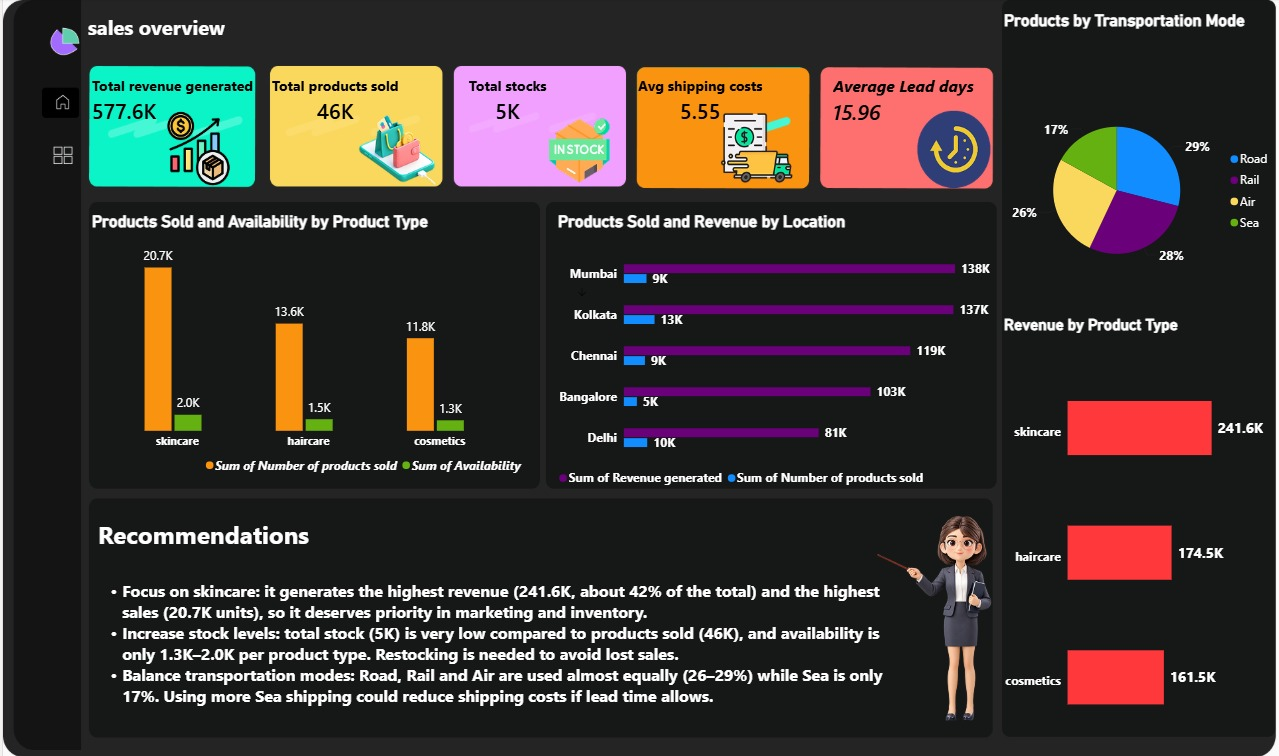

This screenshot's page, from the dashboard's own definition file:
{"tool":"powerbi","page":{"name":"sales overview","canvas":[1920,1080],"ordinal":0},"visuals":[{"type":"cardVisual","fields":{"Data":["Avg(supply_chain_data.Lead times)"]},"box":[1082.4,30.4,226.3,205.1],"z":0},{"type":"cardVisual","fields":{"Data":["Sum(supply_chain_data.Stock levels)"]},"box":[570.3,42.3,195.8,182.6],"z":1000},{"type":"cardVisual","fields":{"Data":["Avg(supply_chain_data.Shipping costs)"]},"box":[792.6,42.3,260.7,182.6],"z":2000},{"type":"cardVisual","fields":{"Data":["Sum(supply_chain_data.Revenue generated)"]},"box":[101.9,56.9,296.4,152.2],"z":3000},{"type":"cardVisual","fields":{"Data":["Sum(supply_chain_data.Number of products sold)"]},"box":[309.6,42.3,260.7,182.6],"z":4000},{"type":"textbox","box":[112.5,17.2,197.2,39.7],"z":5000},{"type":"clusteredColumnChart","title":"Products Sold and Availability by Product Type","fields":{"Category":["supply_chain_data.Product type"],"Y":["Sum(supply_chain_data.Number of products sold)","Sum(supply_chain_data.Availability)"]},"box":[101.9,266,604.7,381.1],"z":6000},{"type":"pieChart","title":"Products by Transportation Mode","fields":{"Category":["supply_chain_data.Transportation modes"],"Y":["CountNonNull(supply_chain_data.SKU)"]},"box":[1309.2,0,390,465.6],"z":7000},{"type":"clusteredBarChart","title":"Revenue by Product Type","fields":{"Category":["supply_chain_data.Product type"],"Y":["Sum(supply_chain_data.Revenue generated)"]},"box":[1309.2,403.7,374.9,621.4],"z":8000},{"type":"textbox","box":[125.7,685.4,1070.5,273.9],"z":9000},{"type":"clusteredBarChart","title":"Products Sold and Revenue by Location ","fields":{"Category":["supply_chain_data.Location"],"Y":["Sum(supply_chain_data.Revenue generated)","Sum(supply_chain_data.Number of products sold)"]},"box":[718.1,266.1,603.2,397.6],"z":10000}]}

Visuals, with their boxes on the page's 1920x1080 design canvas (x1, y1, x2, y2). These are canvas units, not pixel positions in the 1279x756 screenshot, which may show the page scaled, cropped or inside an application window:
cardVisual - Avg(supply_chain_data.Lead times): <box>1082,30,1309,236</box>
cardVisual - Sum(supply_chain_data.Stock levels): <box>570,42,766,225</box>
cardVisual - Avg(supply_chain_data.Shipping costs): <box>793,42,1053,225</box>
cardVisual - Sum(supply_chain_data.Revenue generated): <box>102,57,398,209</box>
cardVisual - Sum(supply_chain_data.Number of products sold): <box>310,42,570,225</box>
textbox: <box>112,17,310,57</box>
"Products Sold and Availability by Product Type" clusteredColumnChart: <box>102,266,707,647</box>
"Products by Transportation Mode" pieChart: <box>1309,0,1699,466</box>
"Revenue by Product Type" clusteredBarChart: <box>1309,404,1684,1025</box>
textbox: <box>126,685,1196,959</box>
"Products Sold and Revenue by Location " clusteredBarChart: <box>718,266,1321,664</box>
